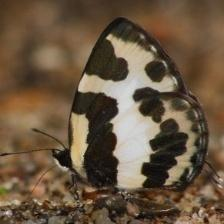butterfly: (54, 18, 209, 188)
